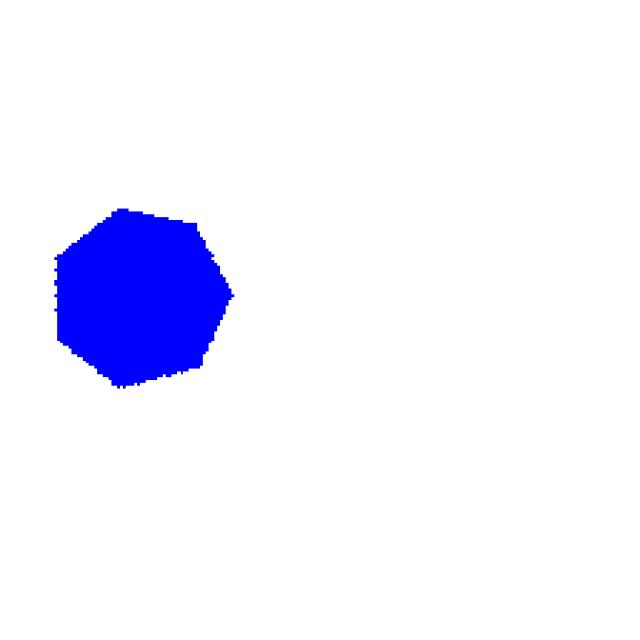Heptagon: (35, 157, 268, 437)
